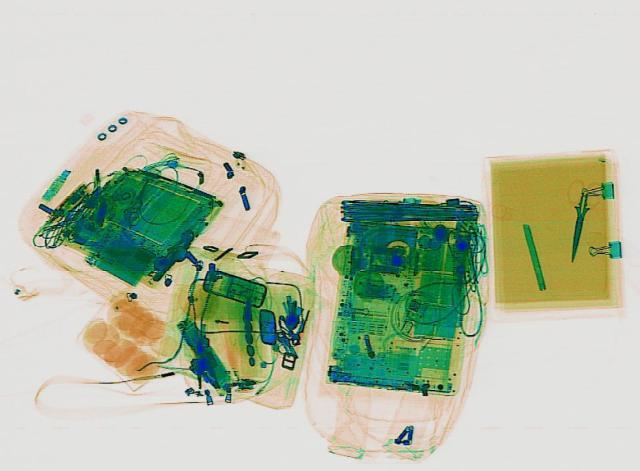Knife: (562, 191, 592, 262)
